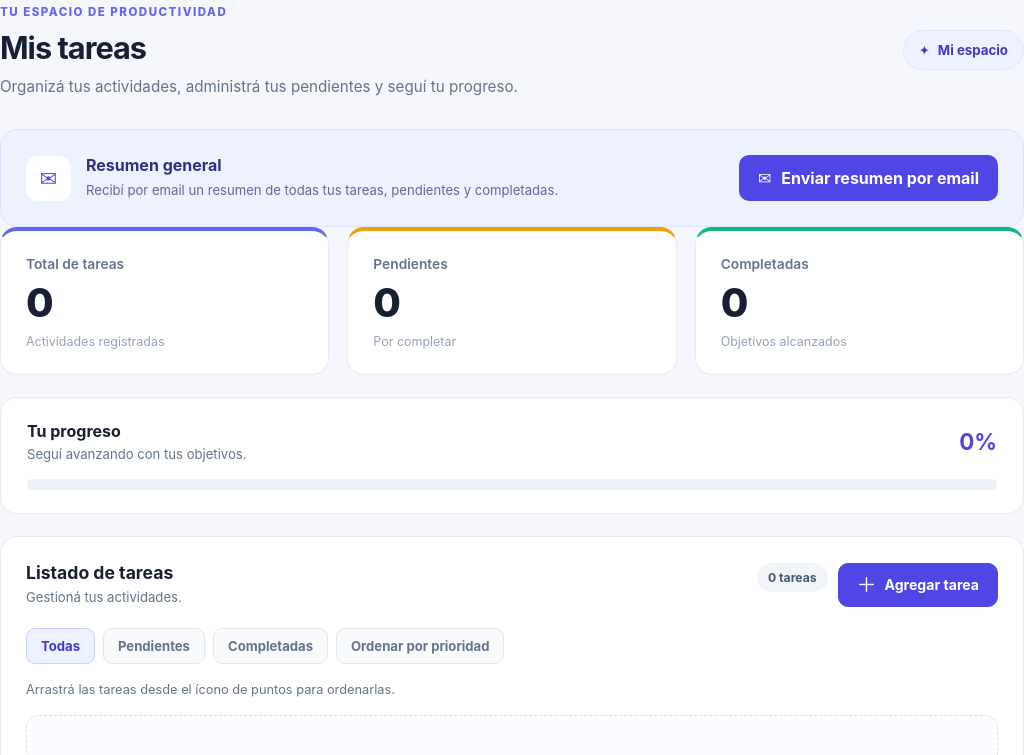
Test case: TasksPage › crea una tarea desde el formulario emergente
Click the button "＋ Agregar tarea" at x=918, y=585, box x1=838 y1=563 x2=998 y2=607
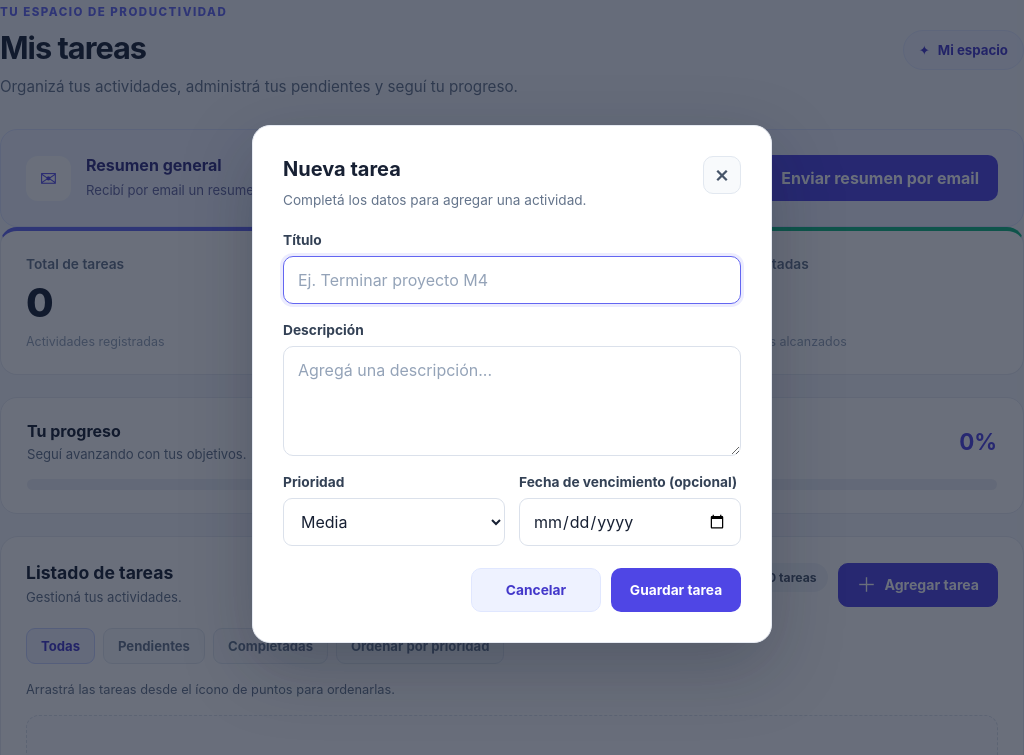
Expected: the dialog "Nueva tarea" is shown, x1=252 y1=125 x2=772 y2=643
Type "Estudiar React" into the field labelled "Título" at x=512, y=280, box x1=283 y1=256 x2=741 y2=304
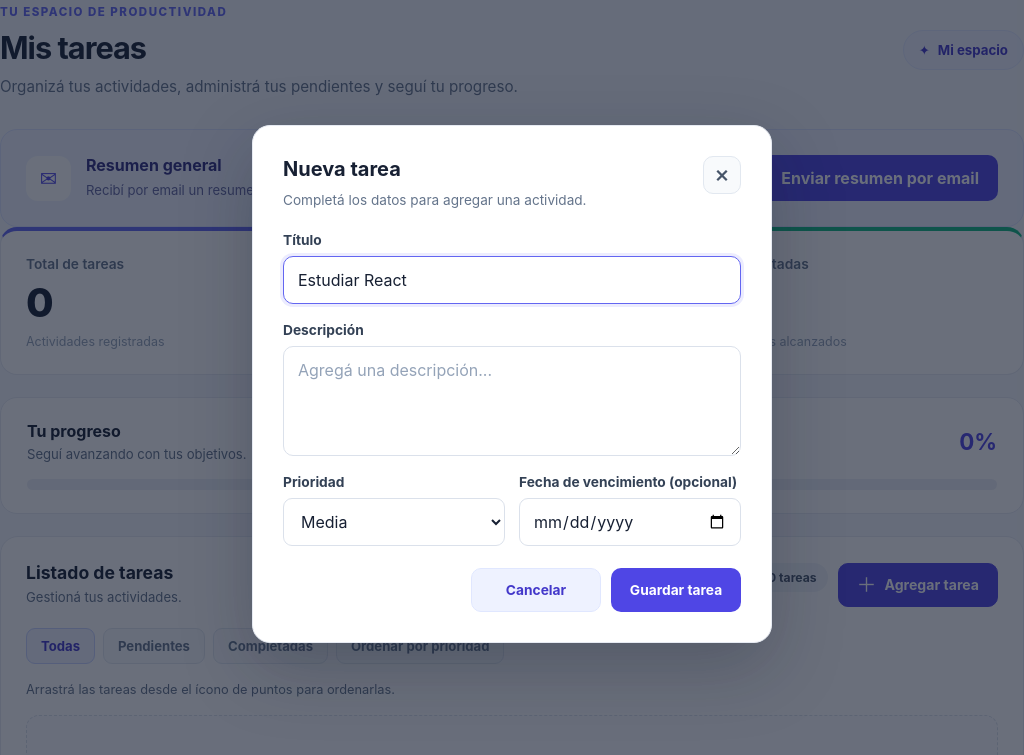
Type "Repasar los componentes" into the text box labelled "Descripción" at x=512, y=401, box x1=283 y1=346 x2=741 y2=456
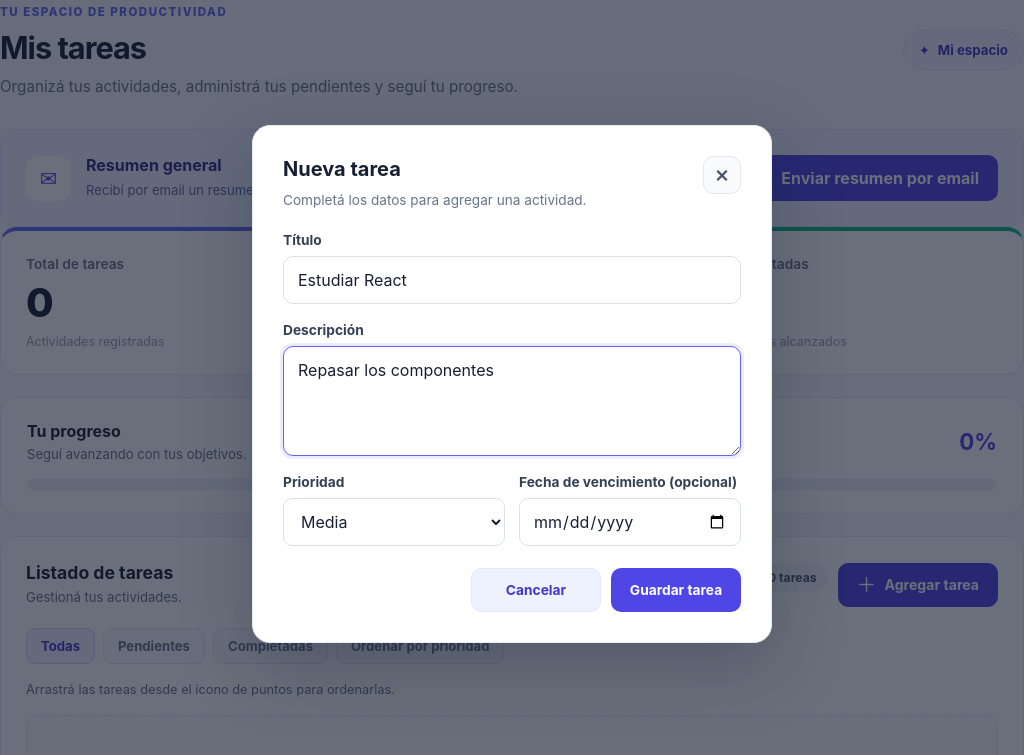
Click the button "Guardar tarea" at x=676, y=590, box x1=611 y1=568 x2=741 y2=612
(page scrolled)
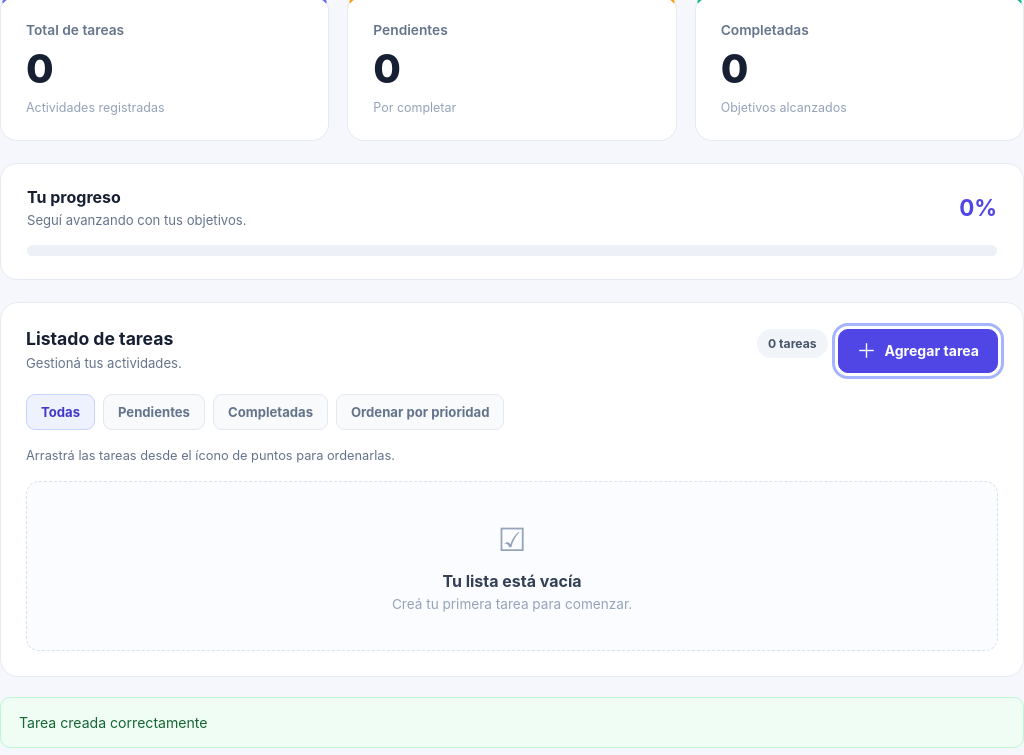
Expected: the text "Tarea creada correctamente" is shown, x1=0 y1=697 x2=1023 y2=748
Expected: the heading "Nueva tarea" is gone
